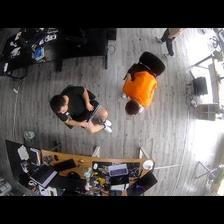normal: (49, 86, 113, 137), (121, 60, 158, 119)
